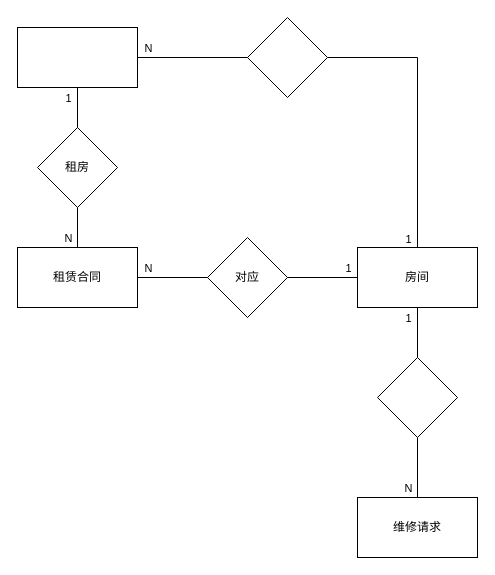
This 495x575 diagram has some shape labels left out. Here are the shapes that lost their labels. From the top down, the centre of each, then its label:
(x=77, y=57): 租户
(x=287, y=57): 居住
(x=417, y=397): 报修
